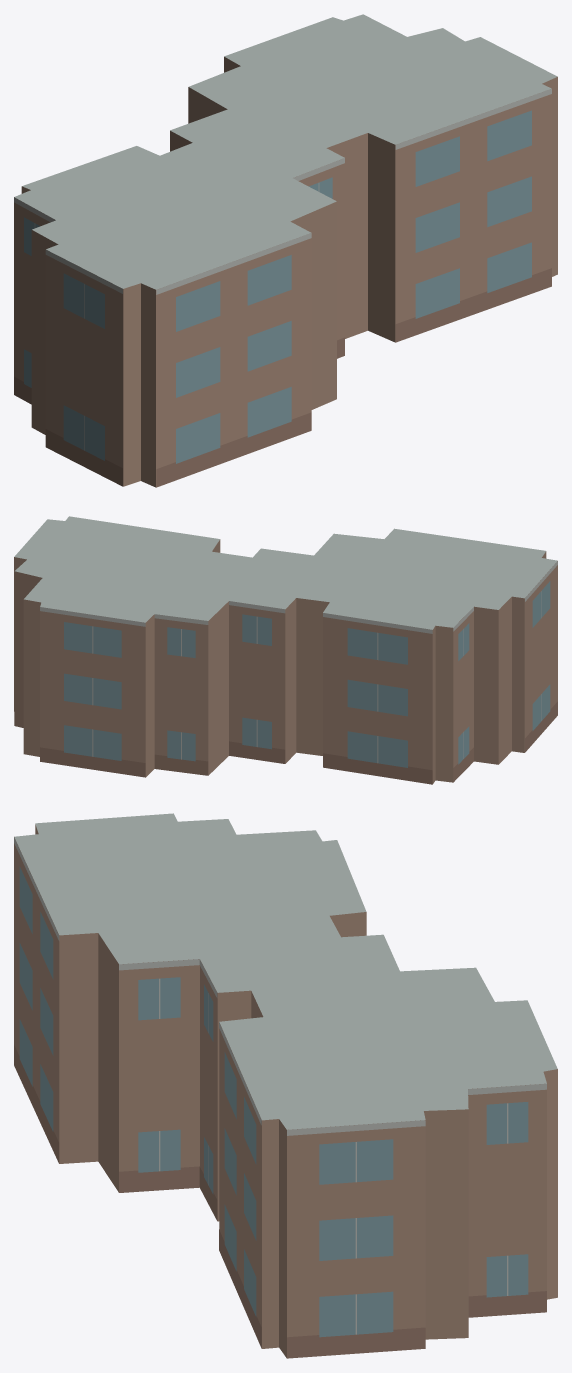
Rendered from survey-upis-32473040.glb.
The picture shows the model from 3 angles, top to bottom: view 1: azimuth 30°, elevation 25°; view 2: azimuth 150°, elevation 25°; view 3: azimuth 270°, elevation 25°; orthographic projection. The views are drawn at different scales.
Parts seen in each view (by area): view 1: survey-upis-32473040.tmp; view 2: survey-upis-32473040.tmp; view 3: survey-upis-32473040.tmp.
Part boxes in pixels (x1,y1,x2,y2): survey-upis-32473040.tmp: [14, 14, 557, 487]; survey-upis-32473040.tmp: [14, 516, 557, 784]; survey-upis-32473040.tmp: [14, 813, 557, 1358].
Size of the model in its own units: 27.17 by 9.15 by 19.73.
